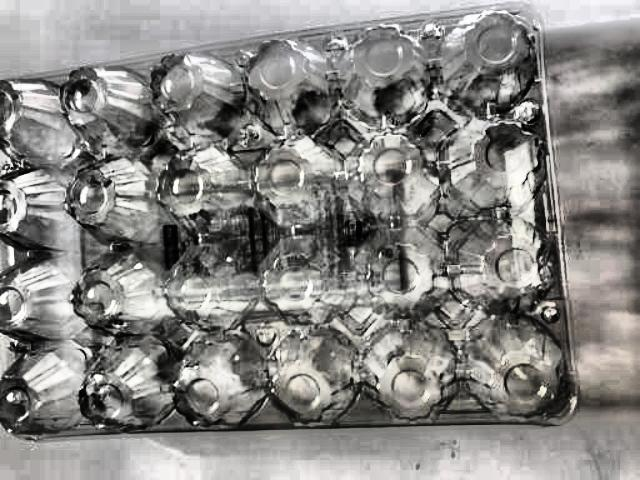Plastic: (0, 12, 639, 442)
